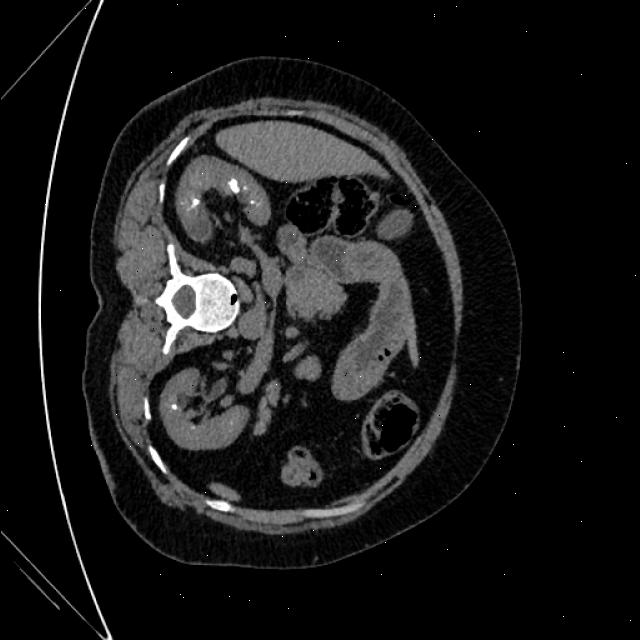kidneystone: (228, 179, 239, 194), (191, 199, 199, 208), (249, 199, 256, 205), (171, 404, 178, 409), (243, 185, 249, 190)
